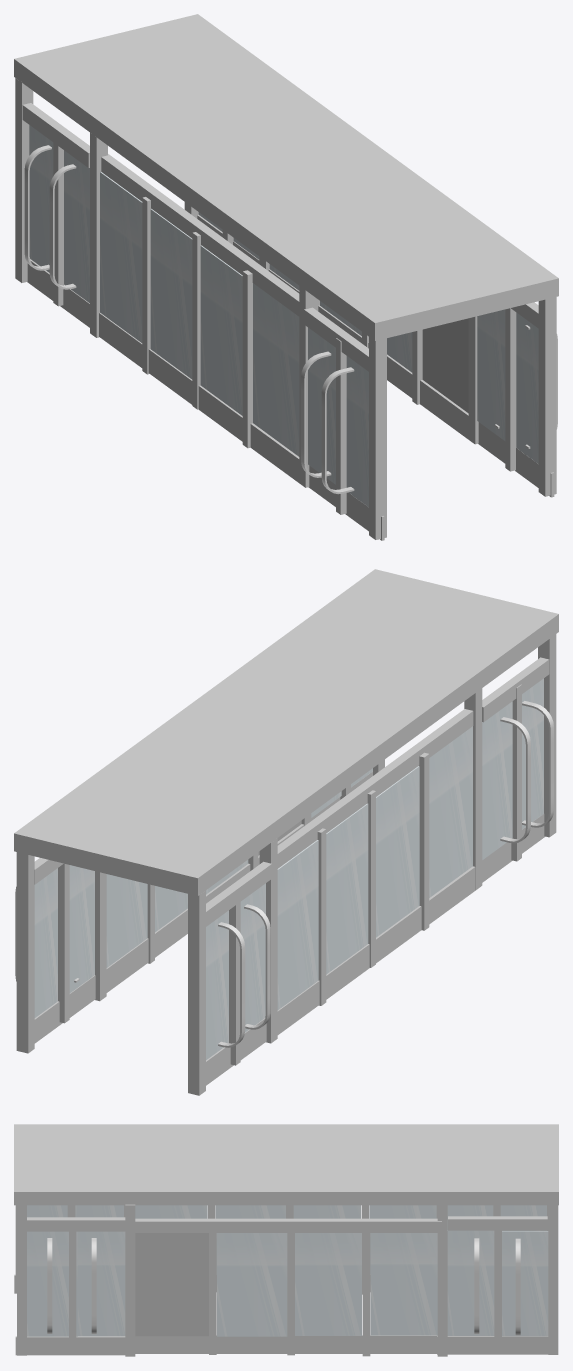
File: door.FBX
3 views of the same model, one above another, from view 1: azimuth 30°, elevation 25°; view 2: azimuth 150°, elevation 25°; view 3: azimuth 270°, elevation 25° (orthographic). The views are drawn at different scales.
Visible parts, largest first — view 1: Box001, Box020, Box017, Box018, Box019, Box014, Box006, Box028, Box005, Box044, Box043, Box023 (+26 smaller); view 2: Box001, Box019, Box020, Box018, Box017, Box014, Box006, Box021, Box025, Box002, Box047, Box040 (+25 smaller); view 3: Box001, Box043, Box042, Box040, Box041, Box037, Box046, Box044, Box047, Box029, Box045, Box038 (+24 smaller).
Boxes of the visible parts, x1,y1,x2,y2 form: Box001: (14,14,558,340); Box020: (253,283,299,456); Box017: (100,172,142,342); Box018: (150,209,192,379); Box019: (200,245,242,415); Box014: (99,313,305,487); Box006: (101,154,299,316); Box028: (538,297,556,496); Box005: (369,337,386,539); Box044: (477,309,505,440); Box043: (422,318,468,413); Box023: (64,150,89,302); Box001: (14,569,558,895); Box019: (376,766,419,937); Box020: (429,726,472,897); Box018: (326,803,368,974); Box017: (277,840,318,1009); Box014: (277,866,480,1034); Box006: (277,709,473,868); Box021: (482,701,512,859); Box025: (16,852,34,1053); Box002: (188,890,205,1095); Box047: (34,868,57,1017); Box040: (106,874,147,967); Box001: (14,1124,558,1205); Box043: (135,1233,208,1336); Box042: (217,1233,287,1336); Box040: (370,1233,437,1335); Box041: (295,1233,361,1335); Box037: (135,1335,436,1353); Box046: (447,1230,494,1335); Box044: (78,1231,125,1336); Box047: (502,1231,548,1336); Box029: (135,1218,441,1232); Box045: (27,1231,77,1336); Box038: (15,1336,125,1355).
Size of the model in its own units: 404 by 369 by 1095.
